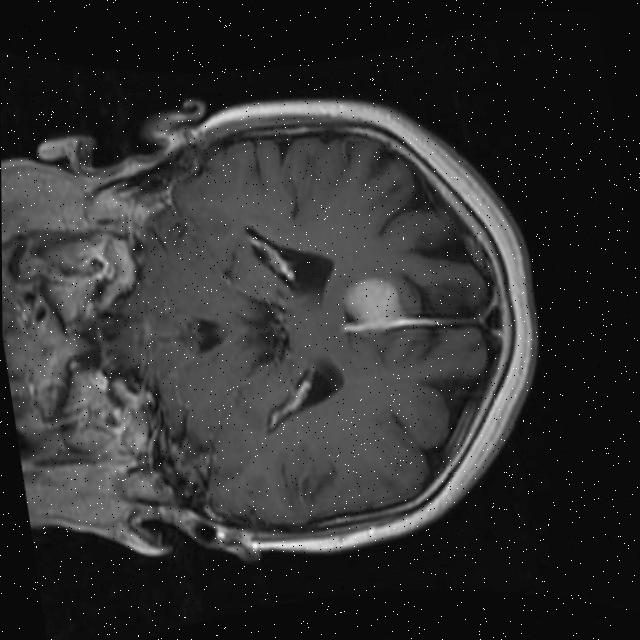Meningioma: (333, 273, 417, 344)
